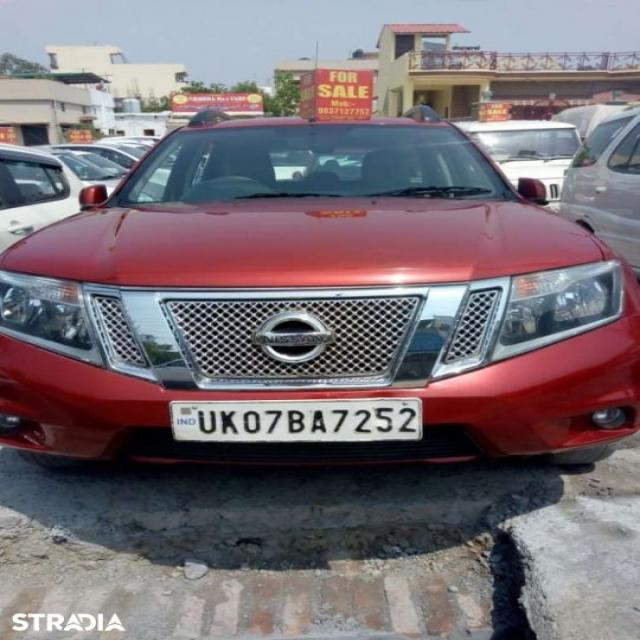license-plate: (167, 398, 421, 443)
